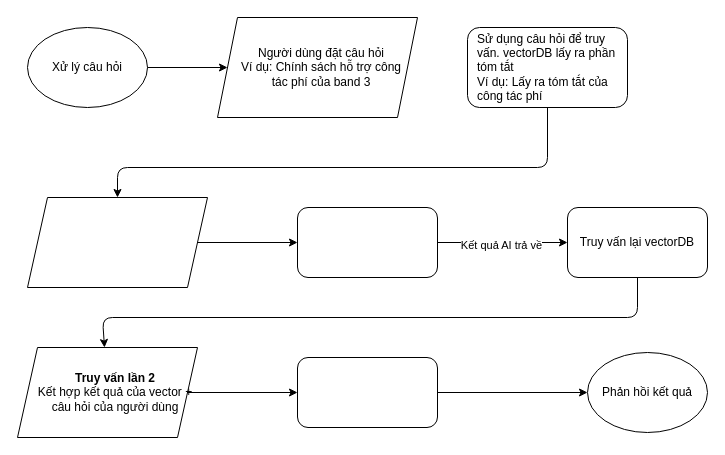
This 725x455 diagram has some shape labels left out. The centre of each missing label's shape, as x and y in pixels:
"Cho qua AI + prompt system để xử lý kết quả cuối cùng" goes at (367,392).
"Cho qua AI xử lý để ra câu truy vấn mới vào vectorDB" goes at (367,242).
"Truy vấn lần 1 Kết hợp kết quả của vector + câu hỏi của người dùng" goes at (117,242).
